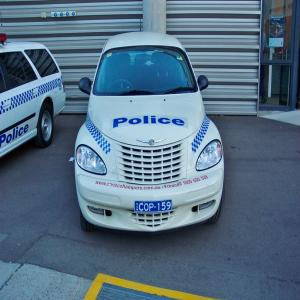Vehicle-registration-plate: (136, 199, 173, 213)
